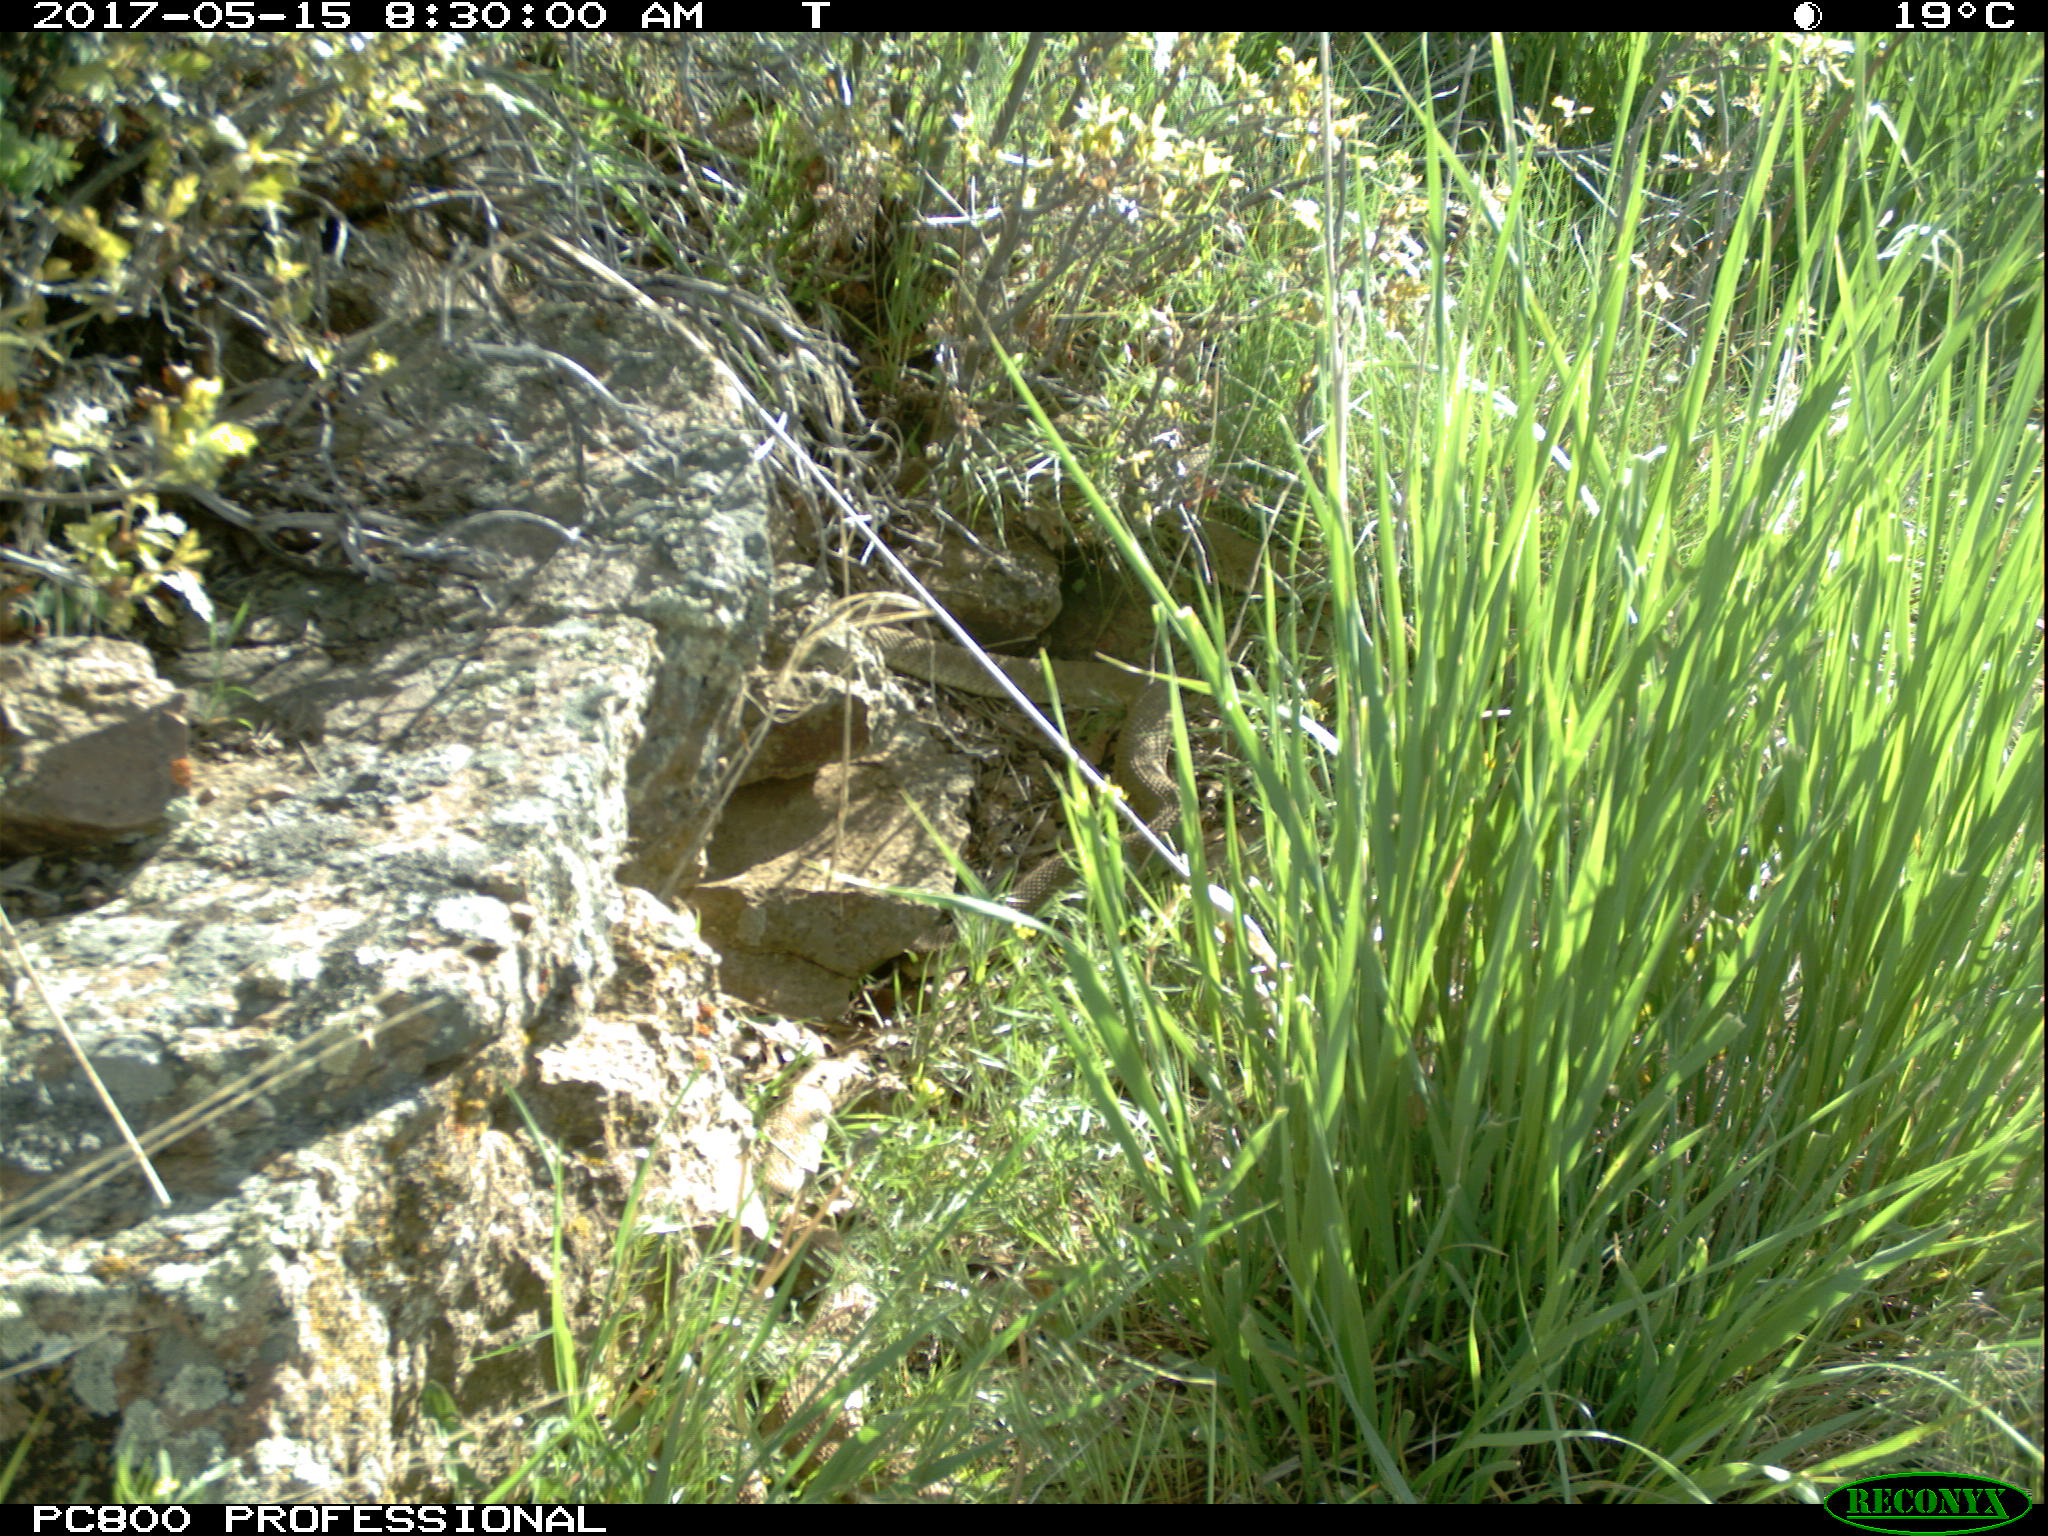snake: (747, 1055, 877, 1450), (906, 816, 1089, 978), (866, 623, 1168, 720), (1109, 716, 1192, 894), (1109, 678, 1187, 821)
